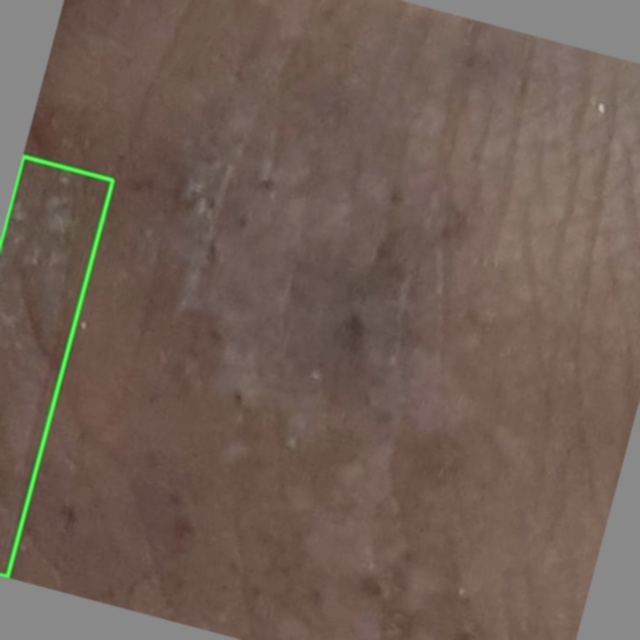Eczema: (0, 156, 112, 576)
